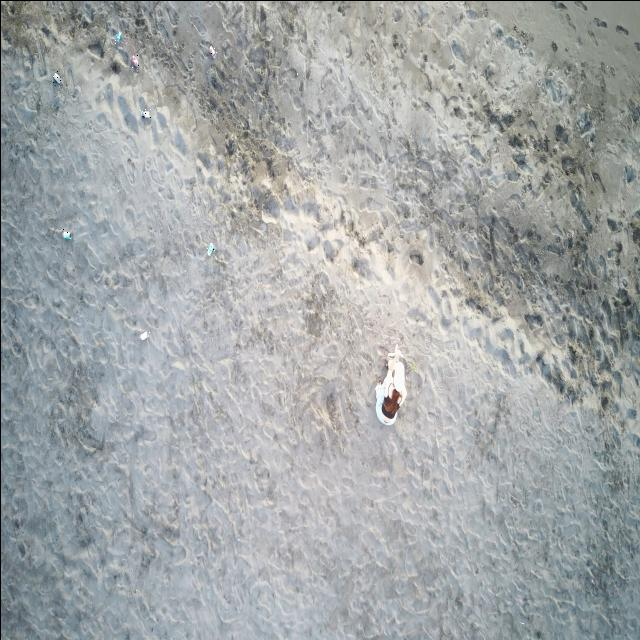Garbage: (375, 344, 406, 424), (129, 52, 138, 70), (112, 31, 123, 44), (140, 108, 150, 119), (52, 71, 60, 83), (63, 227, 71, 239), (207, 243, 215, 255), (208, 44, 216, 56), (140, 331, 148, 340)
